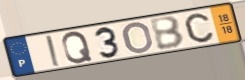3: (94, 25, 120, 60)
B: (148, 14, 187, 51)
C: (183, 12, 216, 44)
I: (44, 34, 63, 68)
O: (122, 21, 156, 55)
Q: (61, 30, 95, 65)
